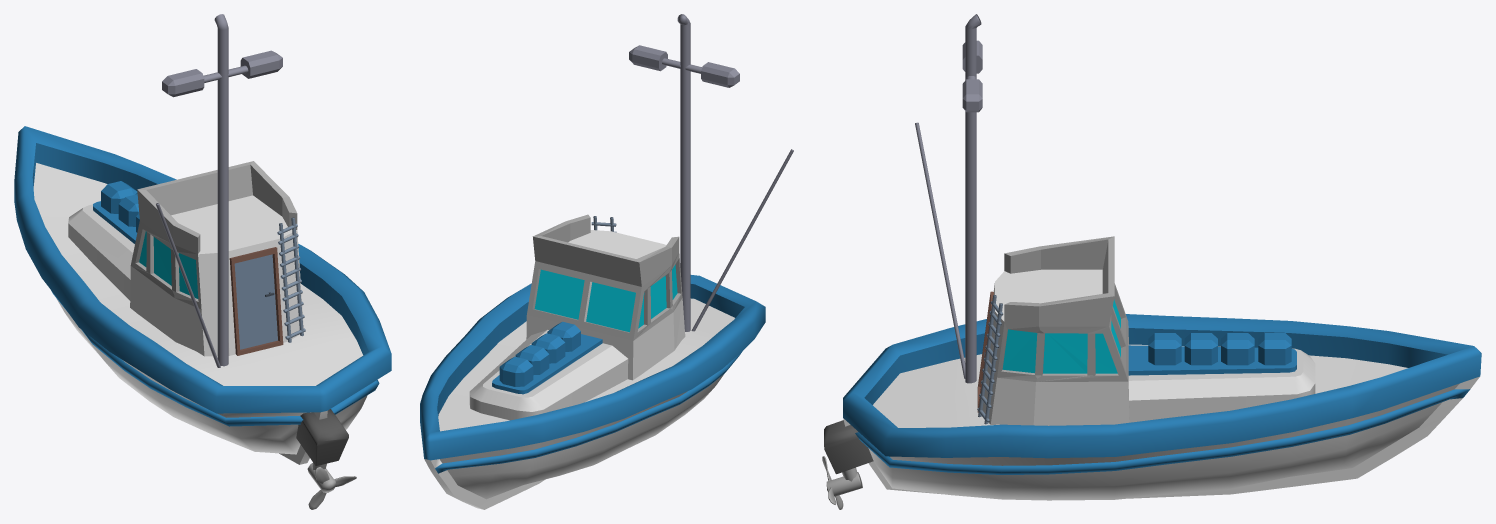
Rendered from boatcolor.fbx.
The picture shows the model from 3 angles, left to right: view 1: azimuth 30°, elevation 25°; view 2: azimuth 150°, elevation 25°; view 3: azimuth 270°, elevation 25°; orthographic projection. The views are drawn at different scales.
Parts seen in each view (by area): view 1: pCylinder1, pCube1, pCube11, pCube2, pCube10, pCylinder17, pCylinder21, pCube6, pCube5; view 2: pCylinder1, pCube1, pCube2, pCube11, pCube6, pCube4, pCube5, pCube3; view 3: pCylinder1, pCube1, pCube2, pCube11, pCube10, pCylinder17, pCube3, pCube4, pCube5, pCube6, pCylinder21.
Part boxes in pixels (x1,y1,x2,y2): pCylinder1: (14, 126, 391, 464); pCube1: (130, 161, 303, 356); pCube11: (156, 14, 282, 367); pCube2: (68, 201, 137, 300); pCube10: (296, 409, 348, 465); pCylinder17: (277, 217, 305, 342); pCylinder21: (307, 462, 356, 509); pCube6: (101, 181, 137, 213); pCube5: (118, 194, 139, 226); pCylinder1: (420, 275, 765, 509); pCube1: (526, 214, 685, 380); pCube2: (469, 329, 628, 420); pCube11: (629, 14, 793, 331); pCube6: (499, 356, 533, 386); pCube4: (531, 333, 565, 363); pCube5: (515, 345, 549, 375); pCube3: (547, 321, 580, 351); pCylinder1: (843, 314, 1481, 500); pCube1: (977, 236, 1129, 425); pCube2: (1128, 344, 1315, 422); pCube11: (915, 14, 982, 383); pCube10: (824, 420, 873, 474); pCylinder17: (977, 295, 1003, 424); pCube3: (1148, 333, 1181, 365); pCube4: (1184, 333, 1217, 365); pCube5: (1221, 333, 1254, 365); pCube6: (1258, 333, 1291, 365); pCylinder21: (822, 456, 862, 509).
Bounding box in the file's own units: 154 × 268 × 333.
